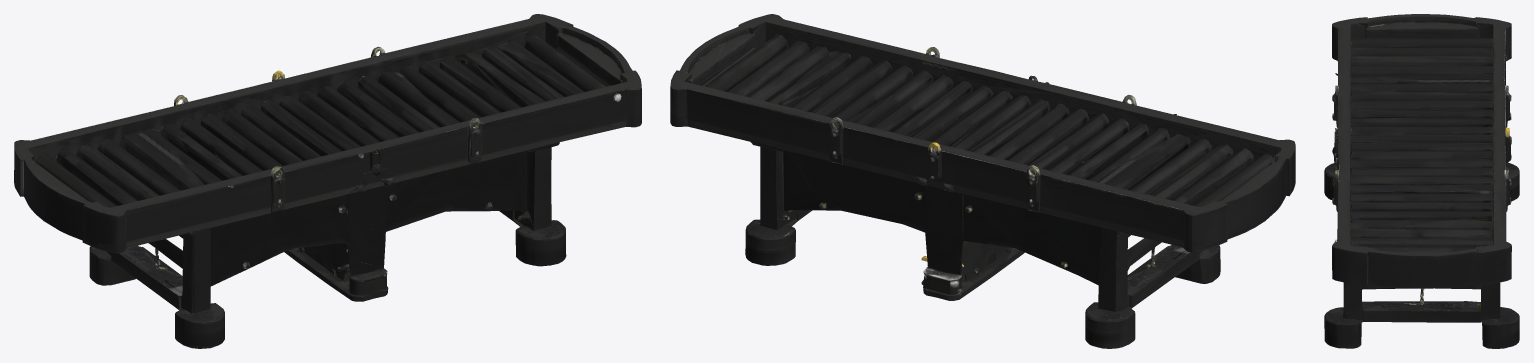
Rendered from modular_conveyor.glb.
3 renders of one model, left to right at view 1: azimuth 30°, elevation 25°; view 2: azimuth 150°, elevation 25°; view 3: azimuth 270°, elevation 25°, orthographic. The views are drawn at different scales.
Bounding box in the file's own units: 1.9 × 0.5101 × 0.6476.
Materials: 1 (1 with a texture image).
